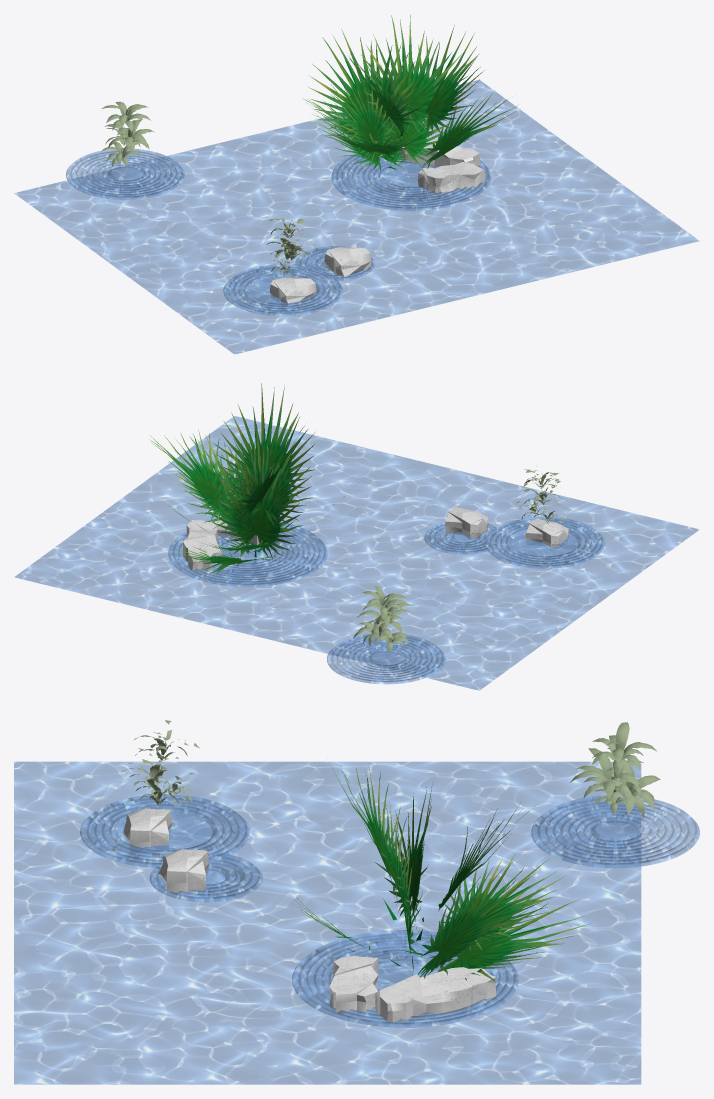
The model's file is h_stairs.gltf.
The picture shows the model from 3 angles, top to bottom: view 1: azimuth 30°, elevation 25°; view 2: azimuth 150°, elevation 25°; view 3: azimuth 270°, elevation 25°; orthographic projection. The views are drawn at different scales.
Parts seen in each view (by area): view 1: Material2.083, Material3.006, Material2.037, Material2.253; view 2: Material2.083, Material3.006, Material2.037, Material2.253; view 3: Material2.083, Material3.006, Material2.037, Material2.253.
Boxes of the visible parts, left/top/right/bottom form: Material2.083: left=14, top=80, right=699, bottom=354; Material3.006: left=303, top=15, right=517, bottom=171; Material2.037: left=269, top=137, right=485, bottom=307; Material2.253: left=101, top=101, right=314, bottom=277; Material2.083: left=15, top=416, right=699, bottom=690; Material3.006: left=150, top=383, right=344, bottom=576; Material2.037: left=183, top=507, right=568, bottom=570; Material2.253: left=353, top=466, right=564, bottom=653; Material2.083: left=14, top=761, right=699, bottom=1084; Material3.006: left=294, top=763, right=590, bottom=981; Material2.037: left=123, top=808, right=496, bottom=1022; Material2.253: left=121, top=720, right=660, bottom=816.
Size of the model in its own units: 3.88 by 1.26 by 3.48.
4 materials, 3 textured.
